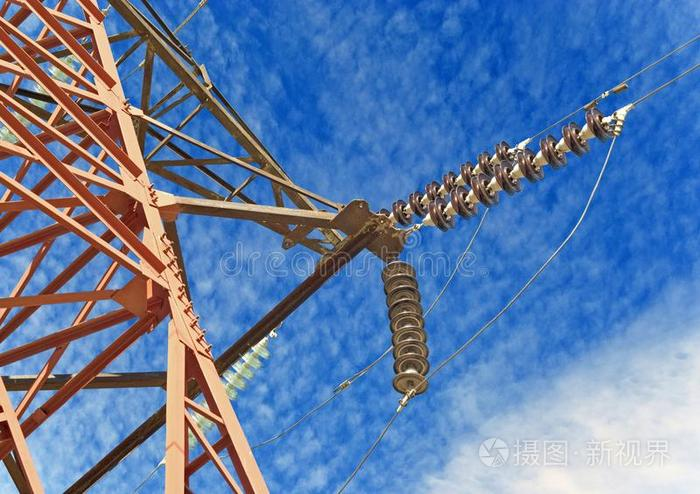insulator: (429, 110, 611, 232), (393, 141, 519, 224), (186, 343, 267, 443), (380, 260, 431, 395), (1, 57, 78, 139)
